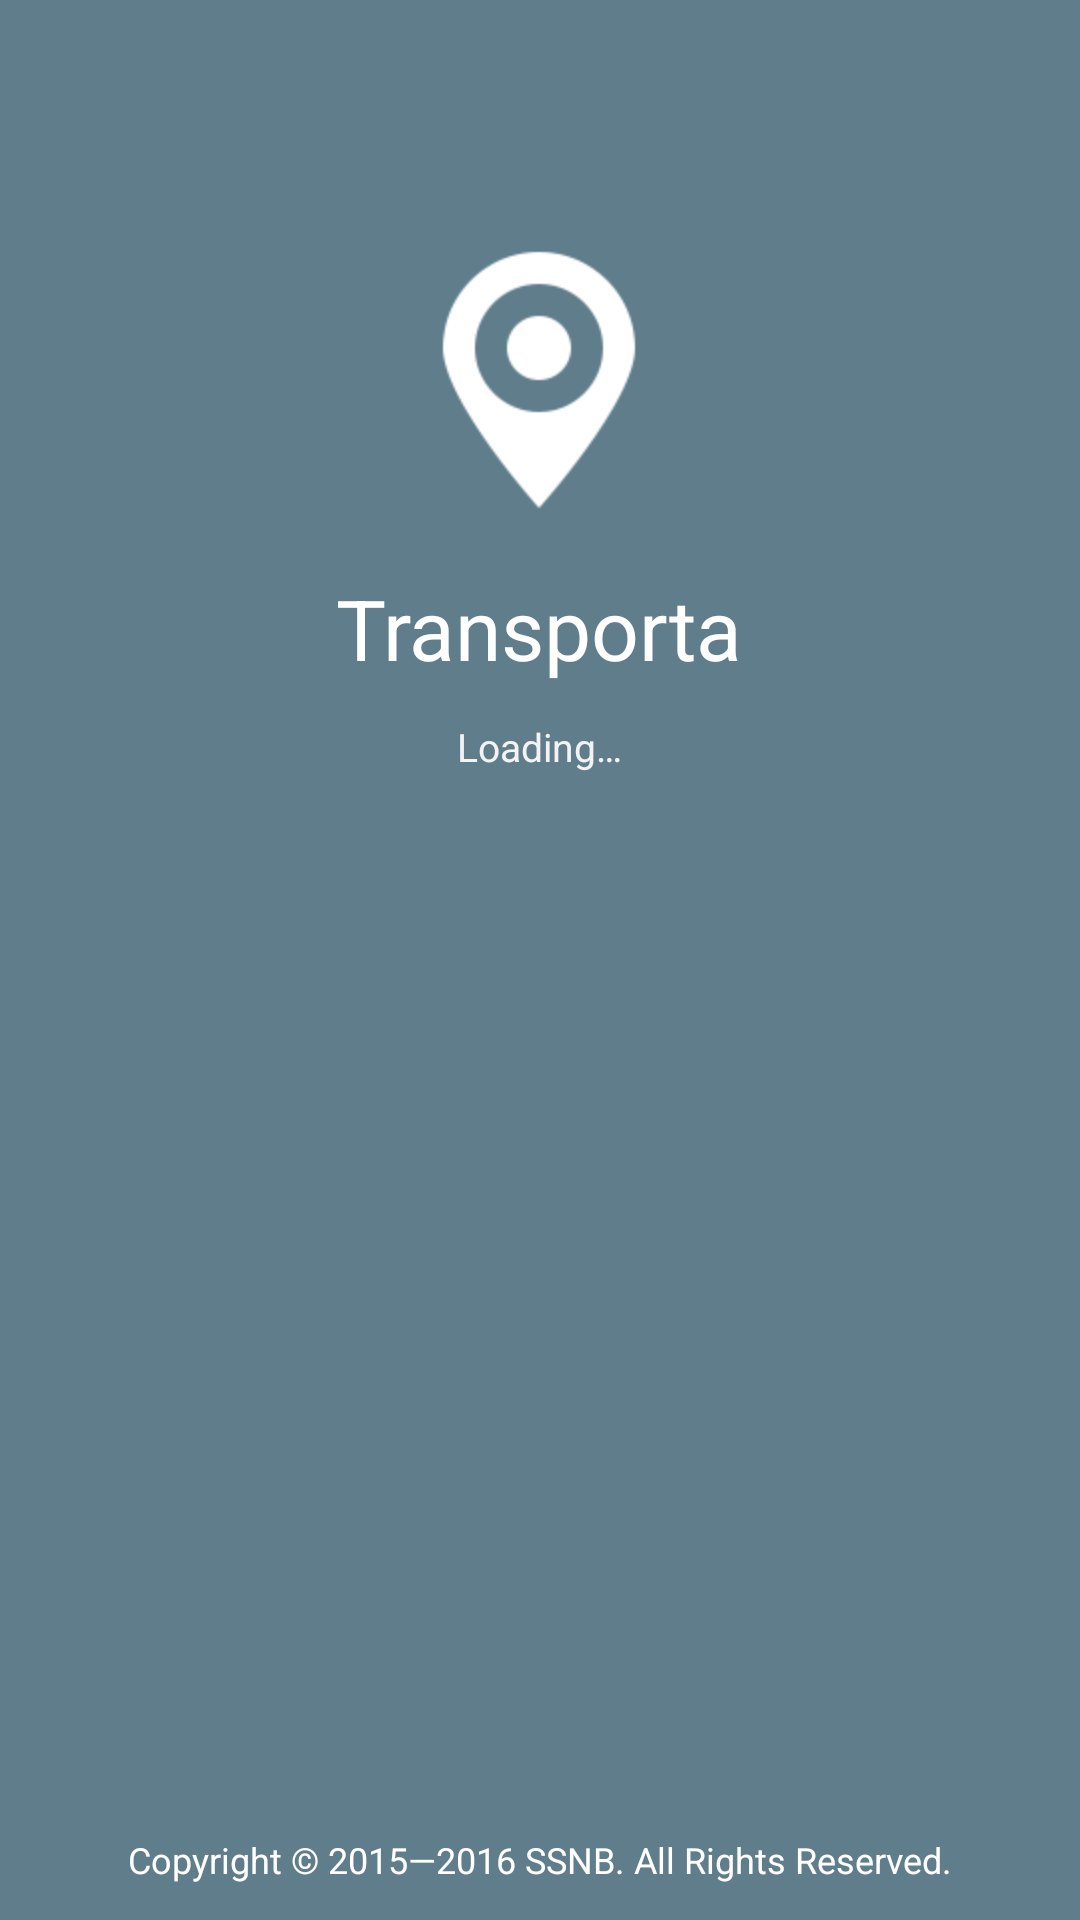

Icons on this 1080×1920 Android screen, each with its box as (x1, y1, x2, y2):
location: (442, 251, 636, 508)
